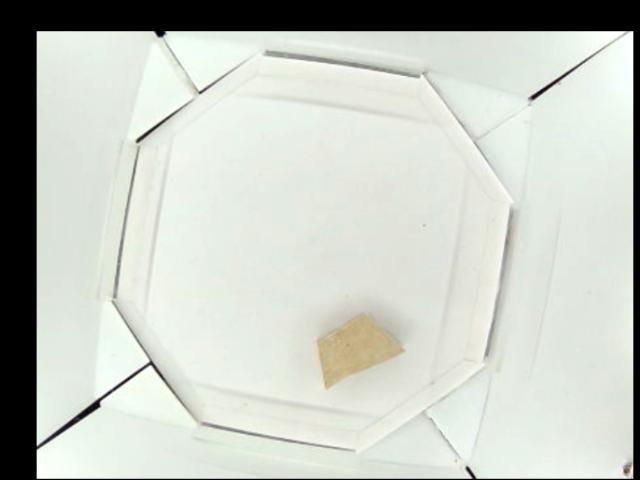China: (317, 310, 403, 387)
